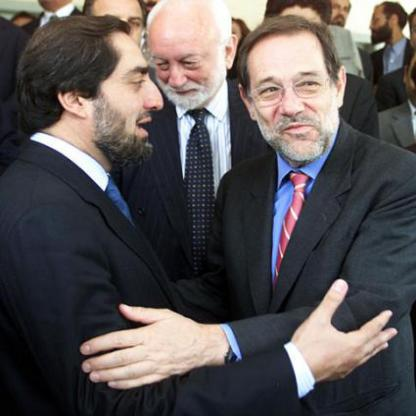face: (75, 14, 179, 160), (247, 23, 341, 164), (152, 2, 224, 111), (87, 1, 147, 66), (364, 3, 397, 46), (330, 1, 351, 29)
